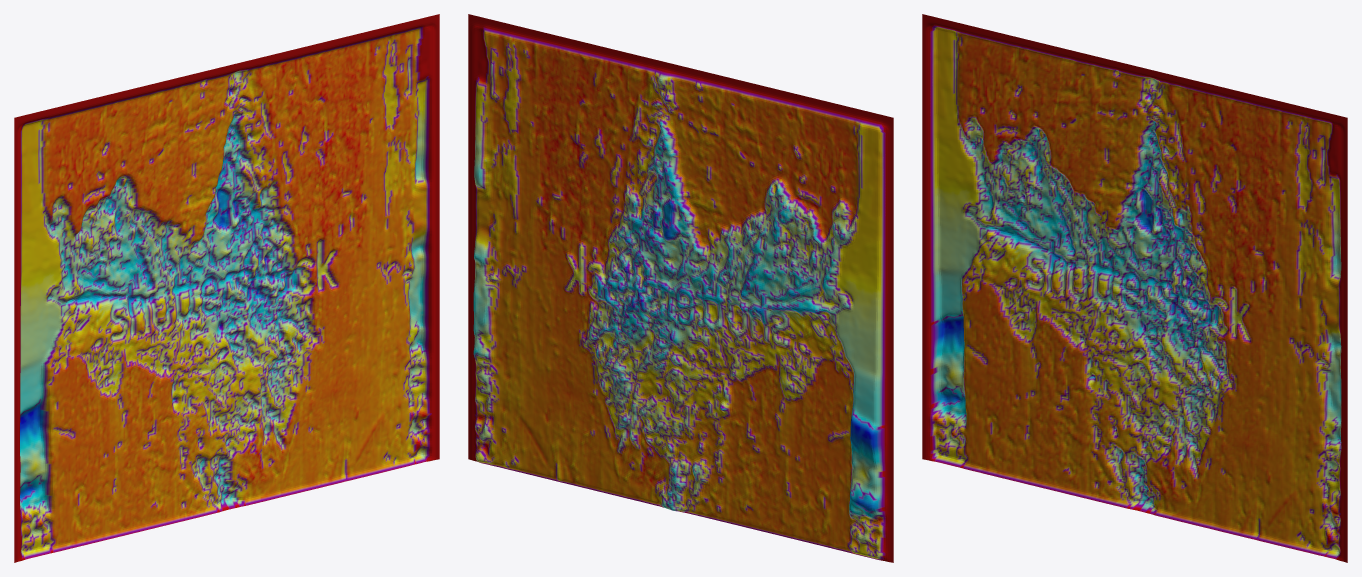
3 renders of one model, left to right at view 1: azimuth 30°, elevation 25°; view 2: azimuth 150°, elevation 25°; view 3: azimuth 330°, elevation 25°, orthographic.
Parts seen in each view (by area): view 1: world; view 2: world; view 3: world.
Part boxes in pixels (box(x1,y1,x2,y2)): world: box(14, 14, 439, 562); world: box(468, 14, 893, 562); world: box(922, 14, 1347, 562).
Bounding box in the file's own units: 299 × 299 × 12.
